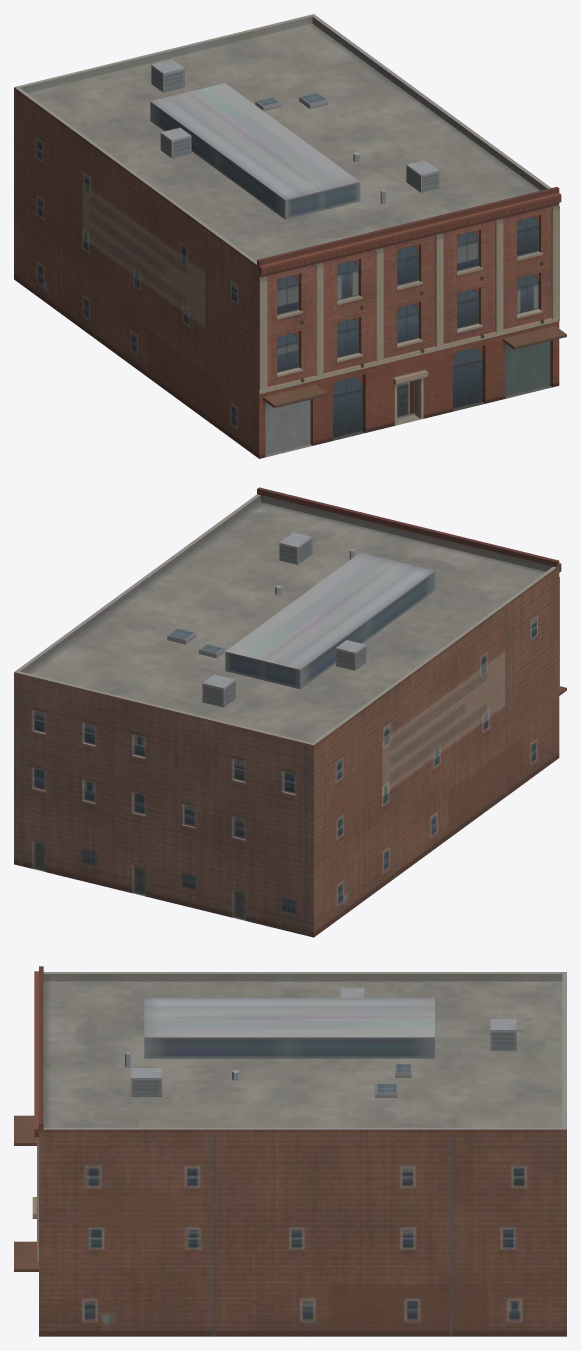
The model's file is sf_warehouse_a.glb.
3 views of the same model, one above another, from view 1: azimuth 30°, elevation 25°; view 2: azimuth 150°, elevation 25°; view 3: azimuth 270°, elevation 25° (orthographic). The views are drawn at different scales.
Visible parts, largest first — view 1: sf_warehouse_a; view 2: sf_warehouse_a; view 3: sf_warehouse_a.
Boxes of the visible parts, x1,y1,x2,y2 form: sf_warehouse_a: (14, 14, 566, 458); sf_warehouse_a: (14, 487, 566, 937); sf_warehouse_a: (14, 966, 566, 1336).
Size of the model in its own units: 24 by 15.65 by 35.6.
1 material, 1 textured.
